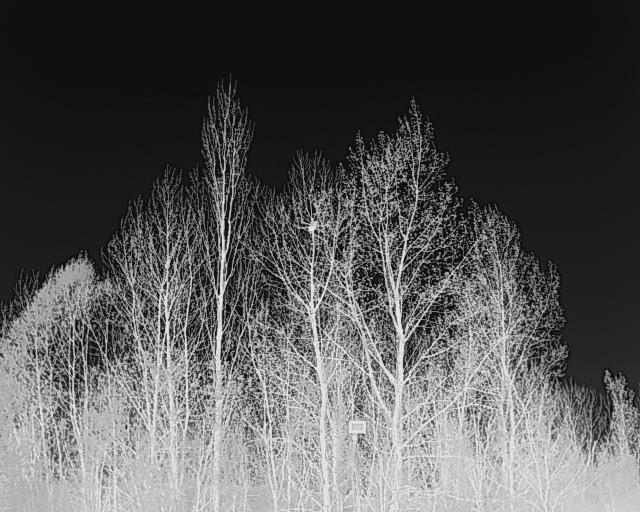drone: (288, 218, 334, 246)
